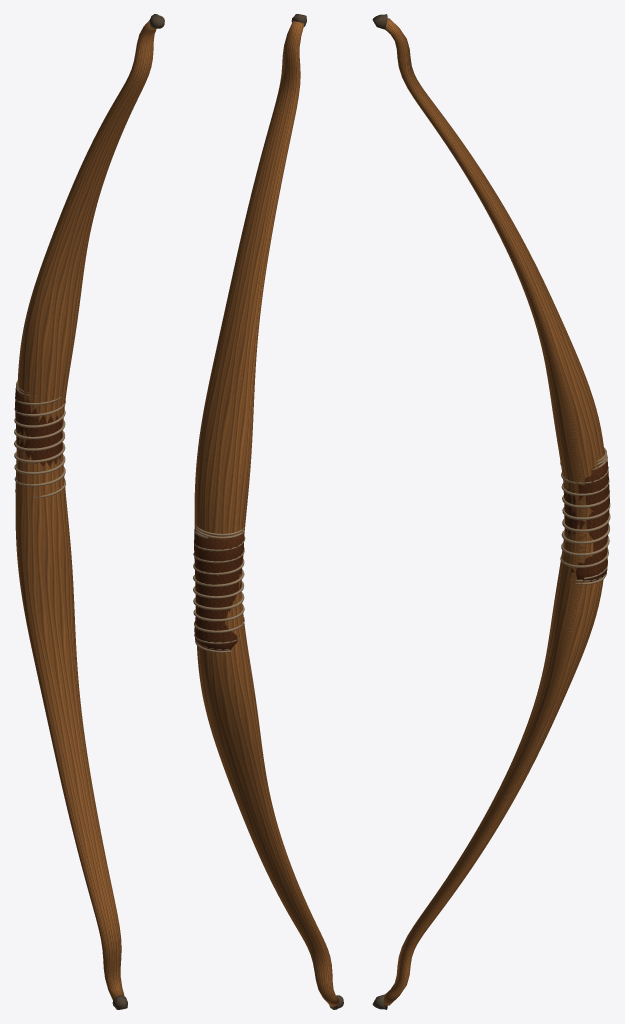
Rendered from field-bow.glb.
3 renders of one model, left to right at view 1: azimuth 30°, elevation 25°; view 2: azimuth 150°, elevation 25°; view 3: azimuth 270°, elevation 25°, orthographic. The views are drawn at different scales.
Visible parts, largest first — view 1: Field bow; view 2: Field bow; view 3: Field bow.
Boxes of the visible parts, box(x1,y1,x2,y2) form: Field bow: box(14, 14, 164, 1009); Field bow: box(193, 14, 343, 1009); Field bow: box(372, 14, 610, 1009).
Bounding box in the file's own units: 0.0837 × 1.42 × 0.3019.
Materials: 4 (2 with a texture image).
